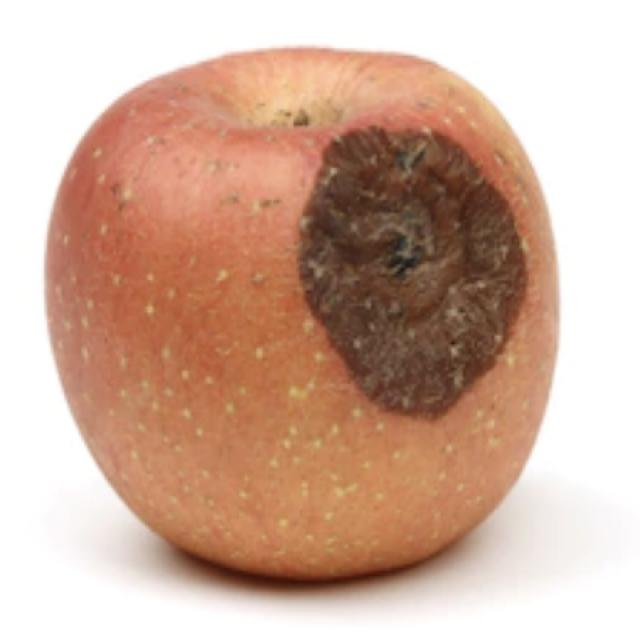rotten_apple: (43, 53, 562, 568)
